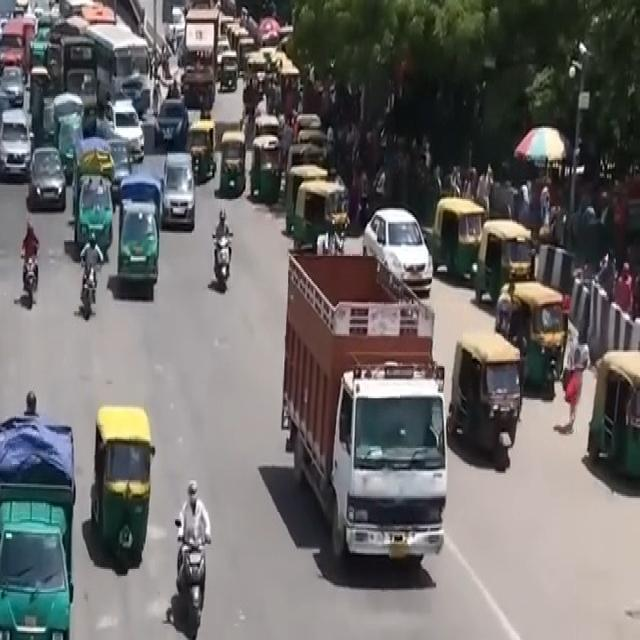car: (356, 199, 440, 299), (23, 142, 72, 217)
motorbike: (162, 471, 227, 640), (206, 213, 238, 297)
rickshaw: (0, 394, 95, 640), (79, 386, 167, 588)
van: (275, 218, 457, 574)
